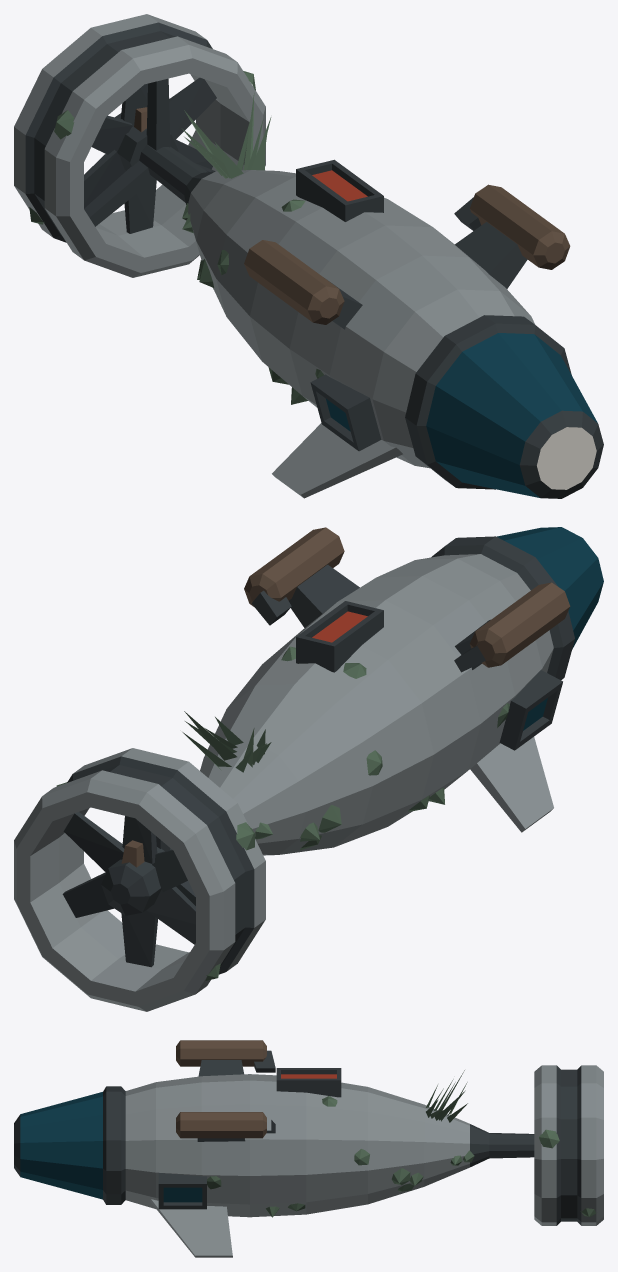
Rendered from diver-propulsion-vehicle-11d8ef.glb.
The picture shows the model from 3 angles, top to bottom: view 1: azimuth 30°, elevation 25°; view 2: azimuth 150°, elevation 25°; view 3: azimuth 270°, elevation 25°; orthographic projection. The views are drawn at different scales.
Visible parts, largest first — view 1: hull, prop, weed; view 2: hull, prop, weed; view 3: hull, weed.
Part boxes in pixels (box(x1,y1,x2,y2)): hull: box(14, 14, 603, 498); prop: box(84, 77, 216, 233); weed: box(181, 93, 271, 178); hull: box(14, 527, 603, 1011); prop: box(62, 812, 195, 967); weed: box(182, 711, 271, 772); hull: box(14, 1040, 603, 1257); weed: box(426, 1070, 467, 1122).
Size of the model in its own units: 0.368 by 0.2969 by 1.1.
